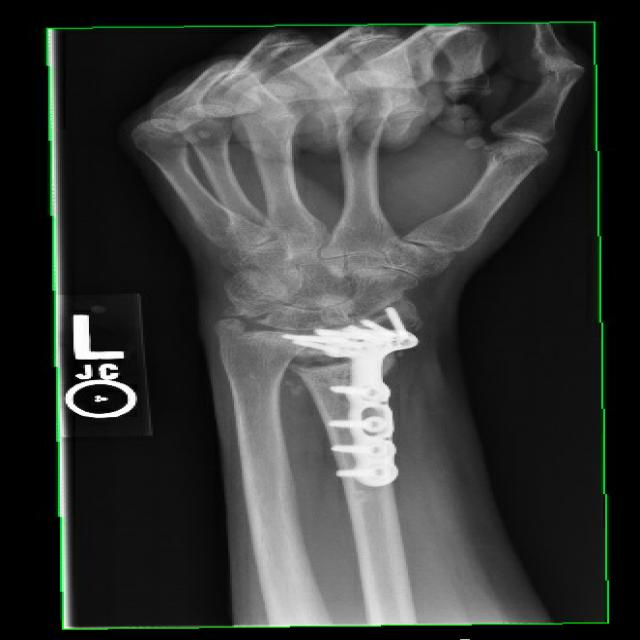x-ray: (269, 300, 443, 492)
